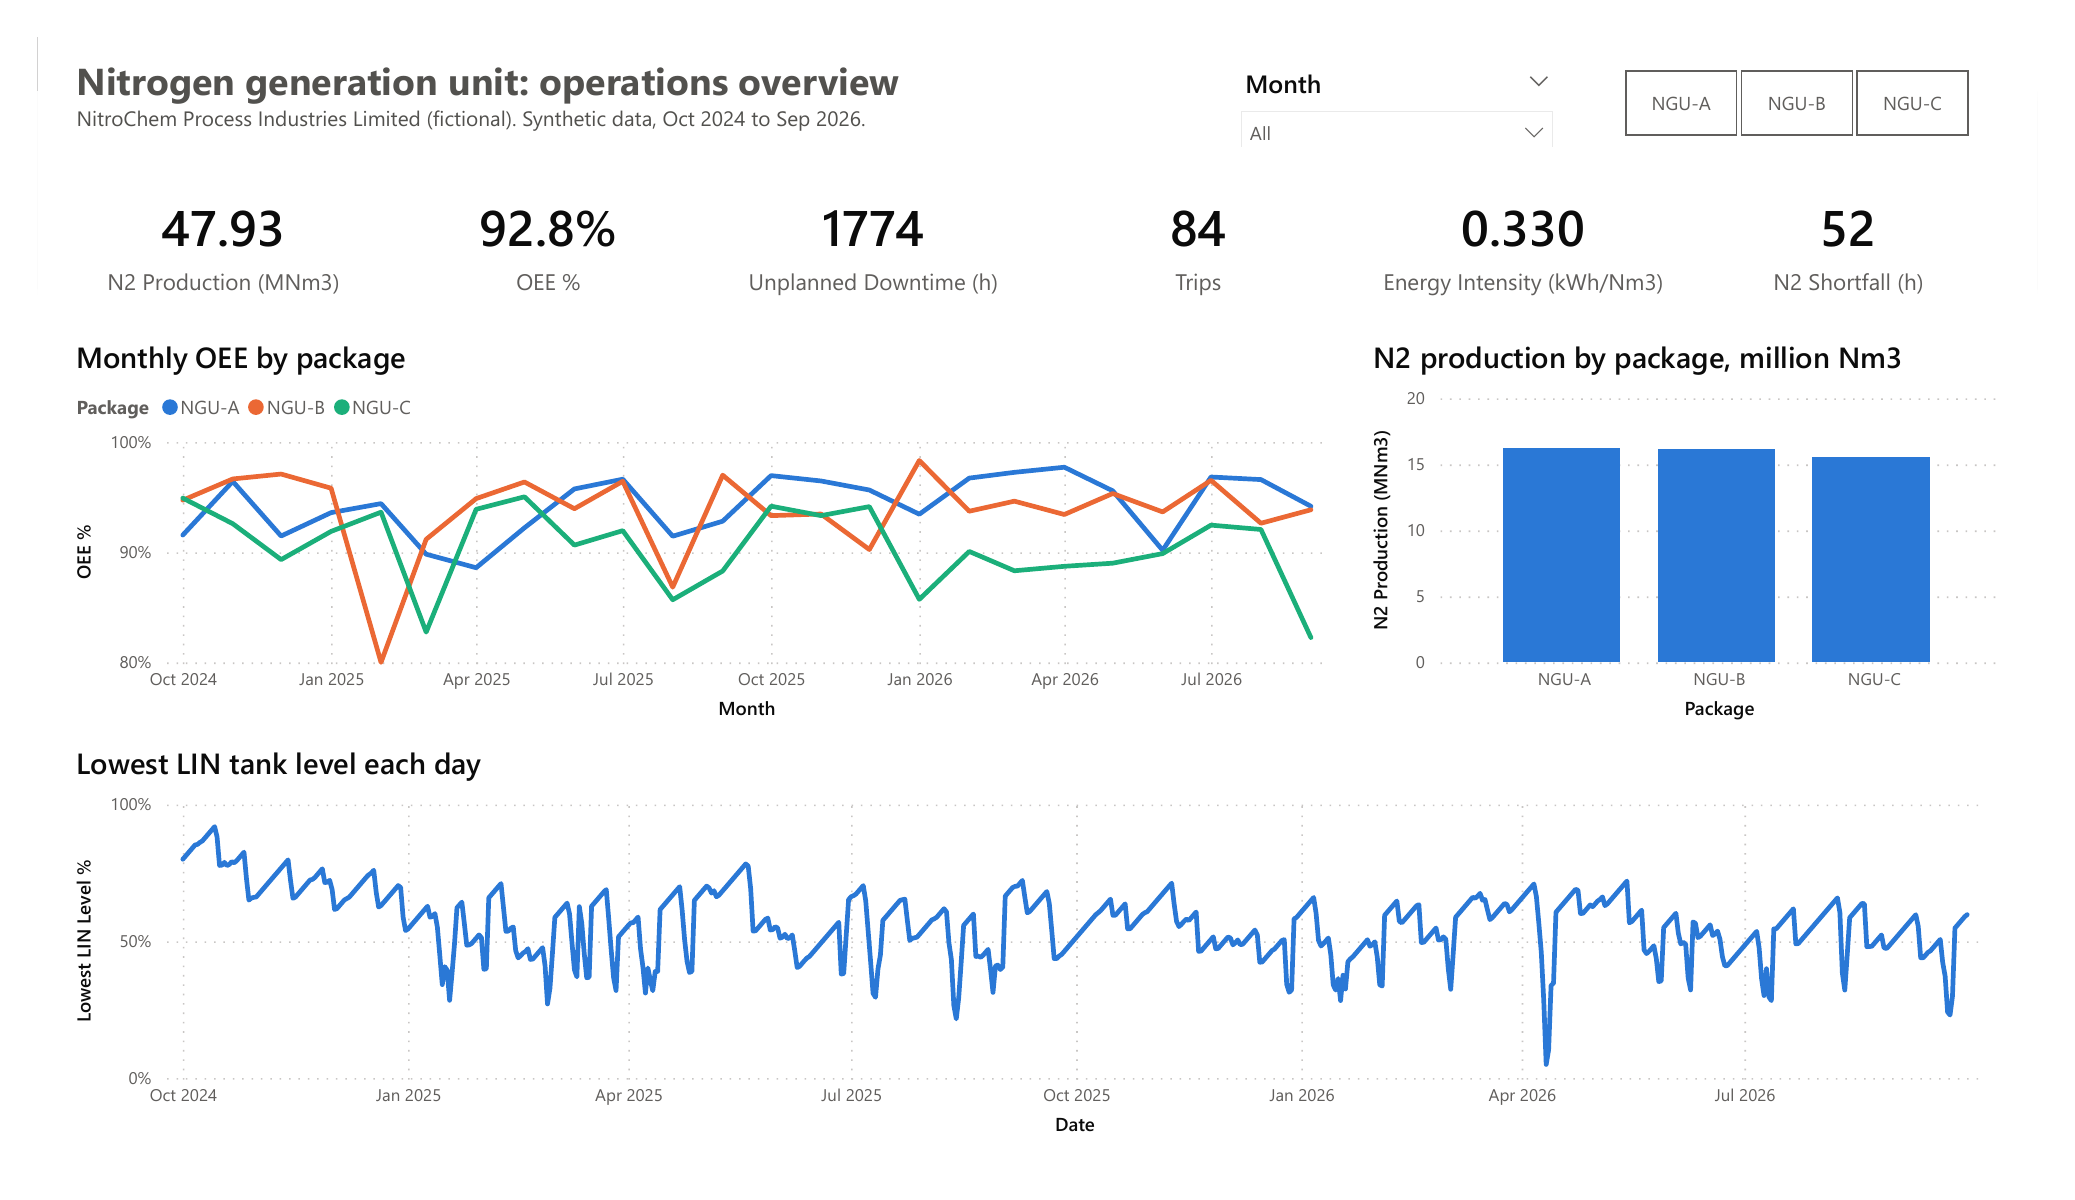

The page's visual inventory and layout, read from the dashboard file:
{"tool":"powerbi","page":{"name":"Overview","canvas":[1280,720],"ordinal":0},"visuals":[{"type":"textbox","box":[20,6,720,68],"z":1001},{"type":"slicer","fields":{"Values":["dim_date.month_name"]},"box":[760,14,220,56],"z":1010},{"type":"slicer","fields":{"Values":["dim_package.package_id"]},"box":[990,14,270,56],"z":1020},{"type":"card","fields":{"Values":["_Measures.N2 Production (MNm3)"]},"box":[20,84,198,96],"z":1030},{"type":"card","fields":{"Values":["_Measures.Unplanned Downtime (h)"]},"box":[436,84,198,96],"z":1040},{"type":"card","fields":{"Values":["_Measures.Unplanned Trips"]},"box":[644,84,198,96],"z":1050},{"type":"card","fields":{"Values":["_Measures.OEE %"]},"box":[228,84,198,96],"z":1060},{"type":"card","fields":{"Values":["_Measures.Energy Intensity (kWh/Nm3)"]},"box":[852,84,198,96],"z":1070},{"type":"card","fields":{"Values":["_Measures.N2 Shortfall (h)"]},"box":[1060,84,198,96],"z":1080},{"type":"lineChart","title":"Monthly OEE by package","fields":{"Category":["dim_date.month_start"],"Y":["_Measures.OEE %"],"Series":["dim_package.package_id"]},"box":[20,192,820,250],"z":1090},{"type":"clusteredColumnChart","title":"N2 production by package, million Nm3","fields":{"Category":["dim_package.package_id"],"Y":["_Measures.N2 Production (MNm3)"]},"box":[850,192,410,250],"z":1100},{"type":"lineChart","title":"Lowest LIN tank level each day","fields":{"Category":["dim_date.date"],"Y":["_Measures.Lowest LIN Level %"]},"box":[20,452,1240,256],"z":1110}]}

Visuals, with their boxes on the page's 1280x720 design canvas (x1, y1, x2, y2). These are canvas units, not pixel positions in the 2075x1200 screenshot, which may show the page scaled, cropped or inside an application window:
textbox: x1=20 y1=6 x2=740 y2=74
slicer - dim_date.month_name: x1=760 y1=14 x2=980 y2=70
slicer - dim_package.package_id: x1=990 y1=14 x2=1260 y2=70
card - _Measures.N2 Production (MNm3): x1=20 y1=84 x2=218 y2=180
card - _Measures.Unplanned Downtime (h): x1=436 y1=84 x2=634 y2=180
card - _Measures.Unplanned Trips: x1=644 y1=84 x2=842 y2=180
card - _Measures.OEE %: x1=228 y1=84 x2=426 y2=180
card - _Measures.Energy Intensity (kWh/Nm3): x1=852 y1=84 x2=1050 y2=180
card - _Measures.N2 Shortfall (h): x1=1060 y1=84 x2=1258 y2=180
"Monthly OEE by package" lineChart: x1=20 y1=192 x2=840 y2=442
"N2 production by package, million Nm3" clusteredColumnChart: x1=850 y1=192 x2=1260 y2=442
"Lowest LIN tank level each day" lineChart: x1=20 y1=452 x2=1260 y2=708
